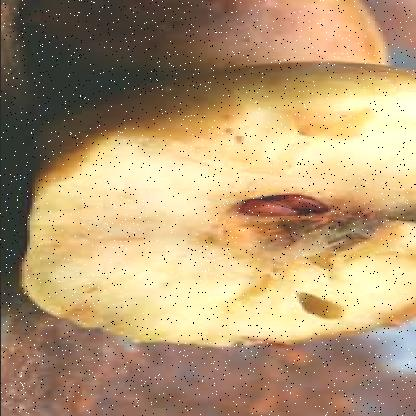damaged_apple: (32, 62, 416, 352)
